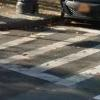Crosswalk: (9, 27, 99, 100)
